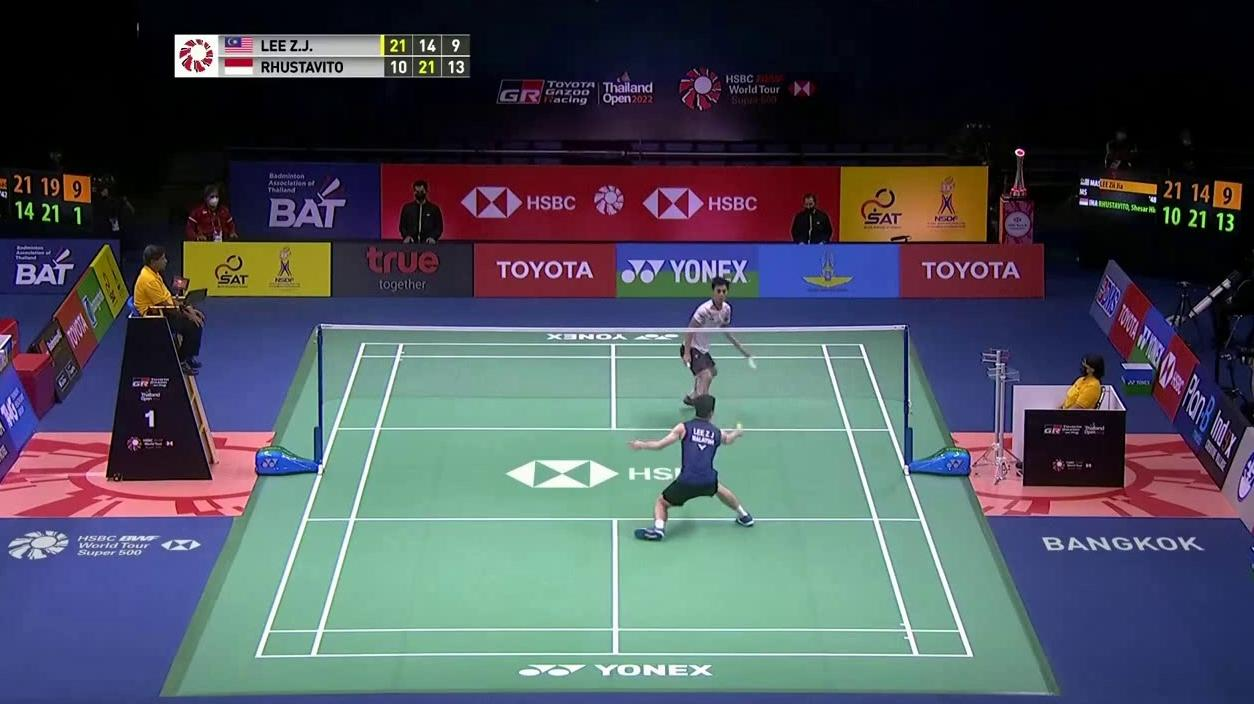racket: (686, 361, 707, 396), (735, 417, 745, 439)
shuttle: (747, 357, 758, 370)
